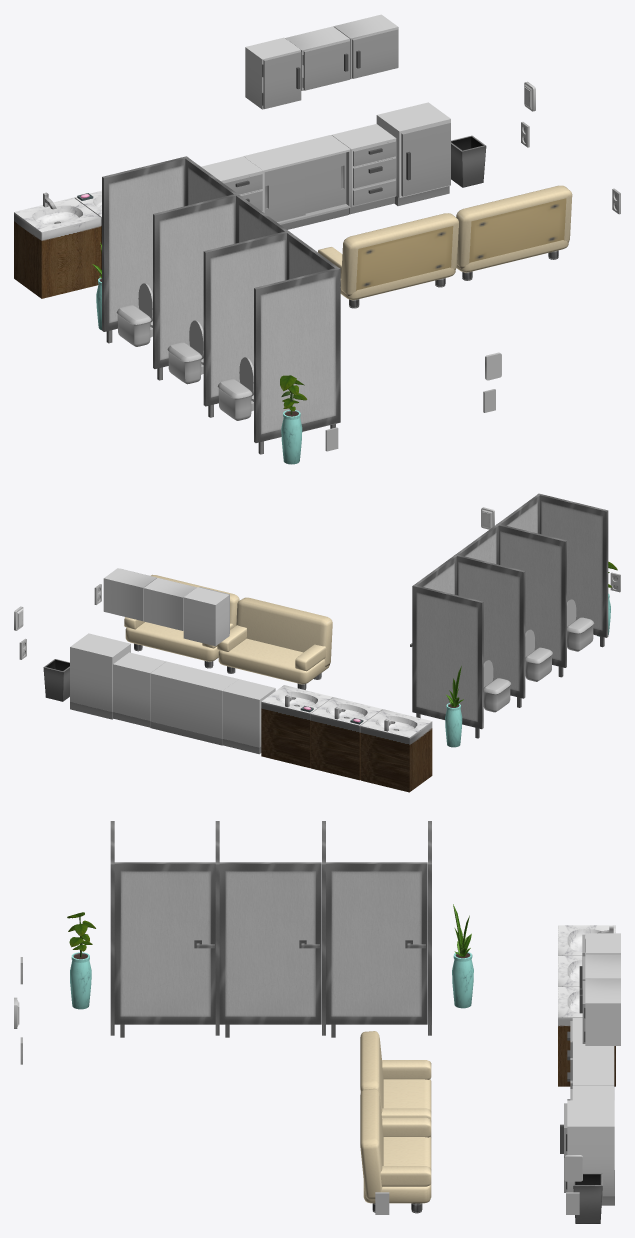
Rendered from Room15Set0.FBX.
The picture shows the model from 3 angles, top to bottom: view 1: azimuth 30°, elevation 25°; view 2: azimuth 150°, elevation 25°; view 3: azimuth 270°, elevation 25°; orthographic projection. The views are drawn at different scales.
Visible parts, largest first — view 1: TolietWall009, TolietWall008, TolietWall006, TolietWall007, ChamferBox019, ChamferBox020, Sink012, Object168, chestbox097, chestbox099, Object173, Object172 (+19 smaller); view 2: TolietWall008, ChamferBox019, TolietWall007, TolietWall009, TolietWall006, chestbox097, Sink012, Sink013, Sink014, chestbox099, chestbox098, chestbox096 (+12 smaller); view 3: TolietDoor005, TolietDoor006, TolietDoor007, ChamferBox020, ChamferBox019, chestbox099, chestbox100, chestbox097, Sink014, TrashCan002, flowerpot025, flowerpot024 (+10 smaller).
Boxes of the visible parts, bbox=[...] form: TolietWall009: bbox=[254, 267, 340, 454]; TolietWall008: bbox=[102, 156, 188, 343]; TolietWall006: bbox=[203, 230, 289, 417]; TolietWall007: bbox=[153, 193, 238, 380]; ChamferBox019: bbox=[318, 213, 458, 308]; ChamferBox020: bbox=[456, 185, 572, 280]; Sink012: bbox=[14, 197, 101, 298]; Object168: bbox=[401, 121, 450, 196]; chestbox097: bbox=[243, 135, 350, 229]; chestbox099: bbox=[376, 102, 450, 205]; Object173: bbox=[305, 152, 346, 213]; Object172: bbox=[264, 162, 305, 221]; TolietWall008: bbox=[412, 585, 483, 738]; ChamferBox019: bbox=[217, 597, 332, 689]; TolietWall007: bbox=[454, 554, 525, 707]; TolietWall009: bbox=[537, 493, 608, 647]; TolietWall006: bbox=[496, 524, 566, 677]; chestbox097: bbox=[150, 661, 238, 745]; Sink012: bbox=[360, 709, 432, 792]; Sink013: bbox=[310, 697, 382, 780]; Sink014: bbox=[261, 685, 332, 767]; chestbox099: bbox=[70, 633, 130, 719]; chestbox098: bbox=[222, 679, 275, 754]; chestbox096: bbox=[113, 652, 166, 727]; TolietDoor005: bbox=[219, 862, 321, 1037]; TolietDoor006: bbox=[325, 862, 427, 1037]; TolietDoor007: bbox=[114, 862, 215, 1037]; ChamferBox020: bbox=[360, 1088, 431, 1213]; ChamferBox019: bbox=[360, 1031, 431, 1137]; chestbox099: bbox=[567, 1100, 614, 1205]; chestbox100: bbox=[585, 979, 620, 1045]; chestbox097: bbox=[573, 1041, 614, 1099]; Sink014: bbox=[558, 987, 615, 1086]; TrashCan002: bbox=[573, 1173, 602, 1223]; flowerpot025: bbox=[70, 952, 91, 1009]; flowerpot024: bbox=[452, 952, 473, 1008].
Bounding box in the file's own units: 77.89 × 25.72 × 78.35.
